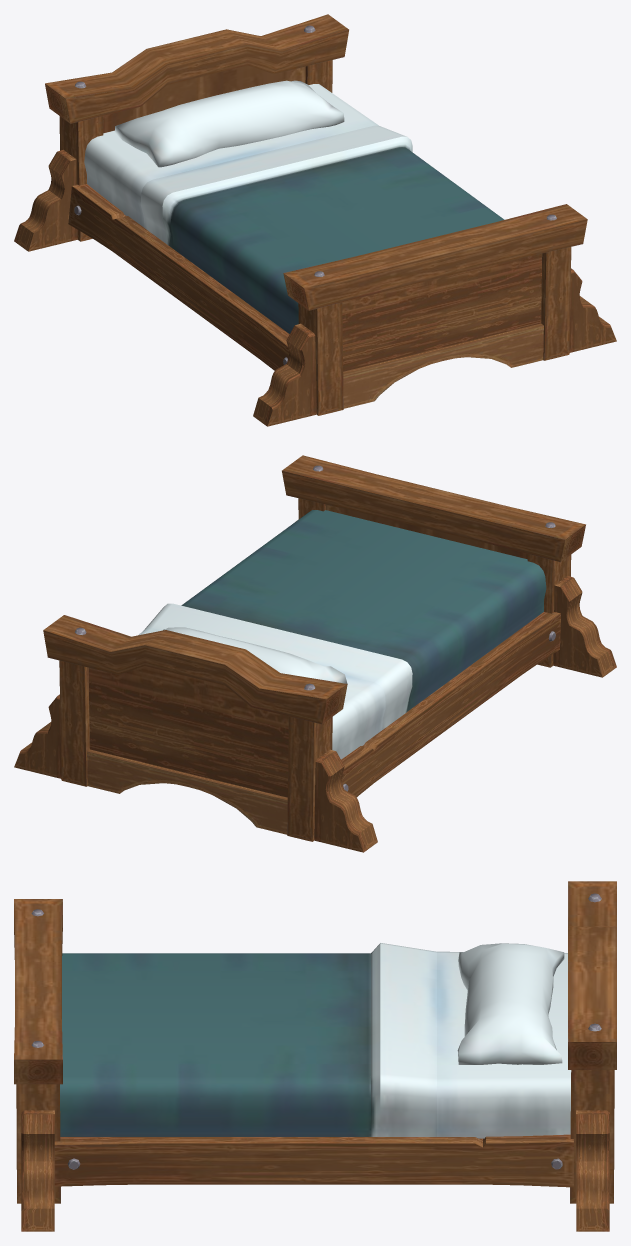
The model's file is bed.glb.
3 renders of one model, top to bottom at view 1: azimuth 30°, elevation 25°; view 2: azimuth 150°, elevation 25°; view 3: azimuth 270°, elevation 25°, orthographic. The views are drawn at different scales.
Visible parts, largest first — view 1: Bed_Twin1; view 2: Bed_Twin1; view 3: Bed_Twin1.
Part boxes in pixels (x1,y1,x2,y2): Bed_Twin1: (14,14,616,426); Bed_Twin1: (14,455,616,852); Bed_Twin1: (14,881,616,1231).
Size of the model in its own units: 1.88 by 0.805 by 2.41.
3 materials, 3 textured.
